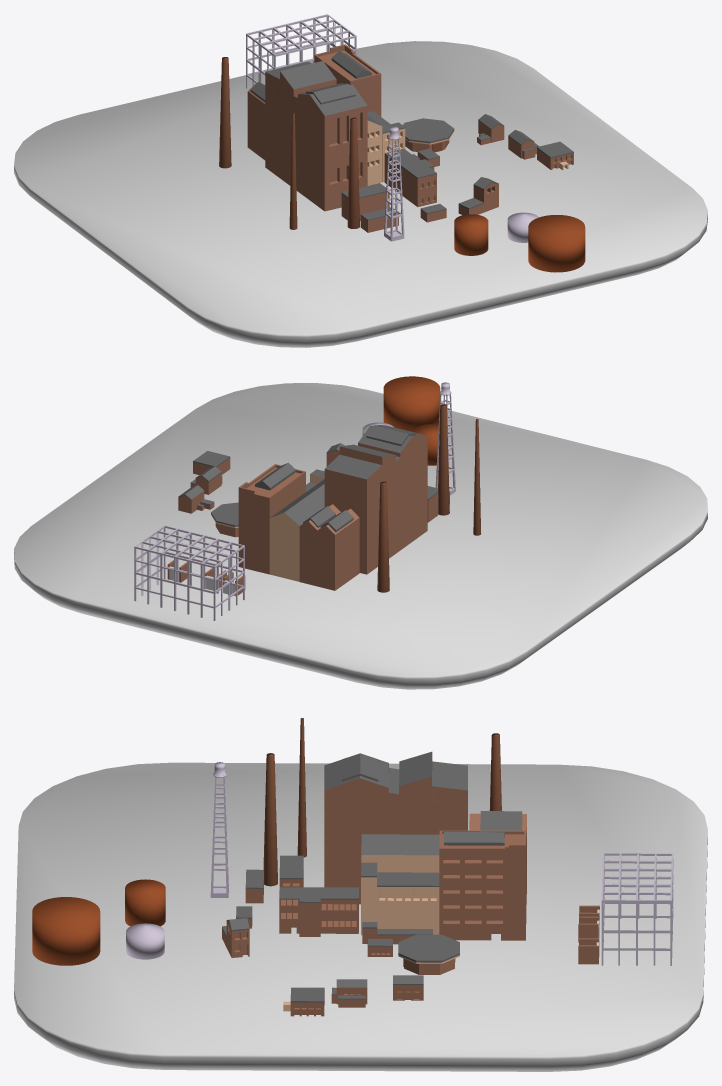
Rendered from map-bachelors-full.glb.
3 views of the same model, one above another, from view 1: azimuth 30°, elevation 25°; view 2: azimuth 150°, elevation 25°; view 3: azimuth 270°, elevation 25° (orthographic). The views are drawn at different scales.
Parts seen in each view (by area): view 1: ground, Cube.009, Cube, Cylinder, Cube.010, Cube.001, Cube.007, Cylinder.002, Circle, Circle.003, Circle.001, Cube.005 (+11 smaller); view 2: ground, Cube.009, Cube, Cube.001, Cube.003, Cylinder, Cube.005, Cube.004, Circle.003, Circle.001, Circle, Cube.007 (+7 smaller); view 3: ground, Cube.009, Cube.001, Cube.002, Cylinder, Cube, Cube.010, Cube.003, Circle, Cylinder.002, Circle.001, Cylinder.001 (+12 smaller).
Boxes of the visible parts, box(x1,y1,x2,y2) form: ground: box(14, 41, 707, 347); Cube.009: box(265, 61, 367, 211); Cube: box(246, 14, 356, 88); Cylinder: box(528, 215, 585, 272); Cube.010: box(384, 148, 436, 206); Cube.001: box(314, 44, 381, 116); Cube.007: box(384, 135, 404, 241); Cylinder.002: box(454, 214, 488, 255); Circle: box(403, 118, 454, 151); Circle.003: box(219, 57, 231, 168); Circle.001: box(347, 117, 359, 228); Cube.005: box(247, 82, 265, 160); ground: box(14, 383, 707, 689); Cube.009: box(324, 425, 427, 574); Cube: box(134, 525, 244, 620); Cube.001: box(238, 464, 305, 574); Cube.003: box(269, 479, 324, 581); Cylinder: box(383, 376, 440, 432); Cube.005: box(317, 508, 359, 590); Cube.004: box(299, 504, 340, 586); Circle.003: box(377, 481, 389, 592); Circle.001: box(438, 404, 449, 515); Circle: box(211, 502, 238, 537); Cube.007: box(435, 391, 455, 495); ground: box(14, 762, 707, 1071); Cube.009: box(324, 751, 467, 904); Cube.001: box(439, 830, 526, 940); Cube.002: box(361, 862, 439, 935); Cylinder: box(32, 897, 100, 965); Cube: box(601, 853, 673, 965); Cube.010: box(279, 887, 358, 936); Cube.003: box(361, 834, 439, 872); Circle: box(398, 934, 459, 974); Cylinder.002: box(125, 879, 165, 926); Circle.001: box(263, 753, 277, 886); Cylinder.001: box(126, 923, 164, 959).
Size of the model in its own units: 10.91 by 2.75 by 10.91.
